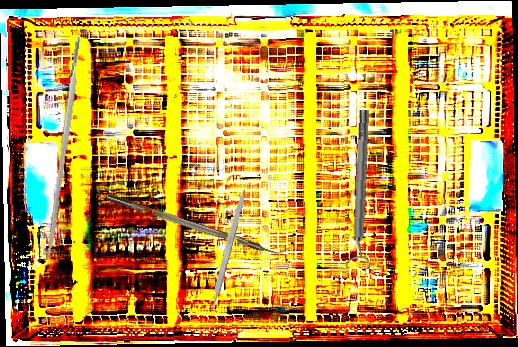Chopper: (106, 184, 292, 263)
Fixation Ring: (343, 109, 380, 270)
Scalpel Handle: (43, 35, 85, 262), (207, 188, 248, 310)
